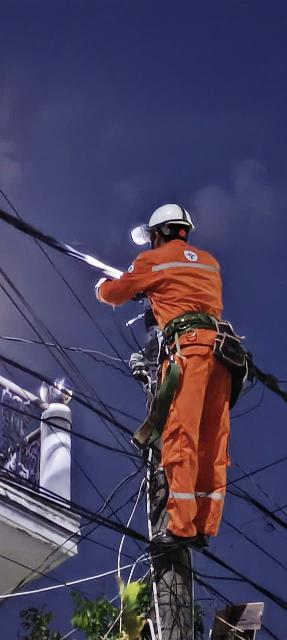harness: (149, 312, 242, 351)
helmet: (138, 200, 202, 236)
shoes: (136, 523, 197, 552), (190, 523, 221, 552)
